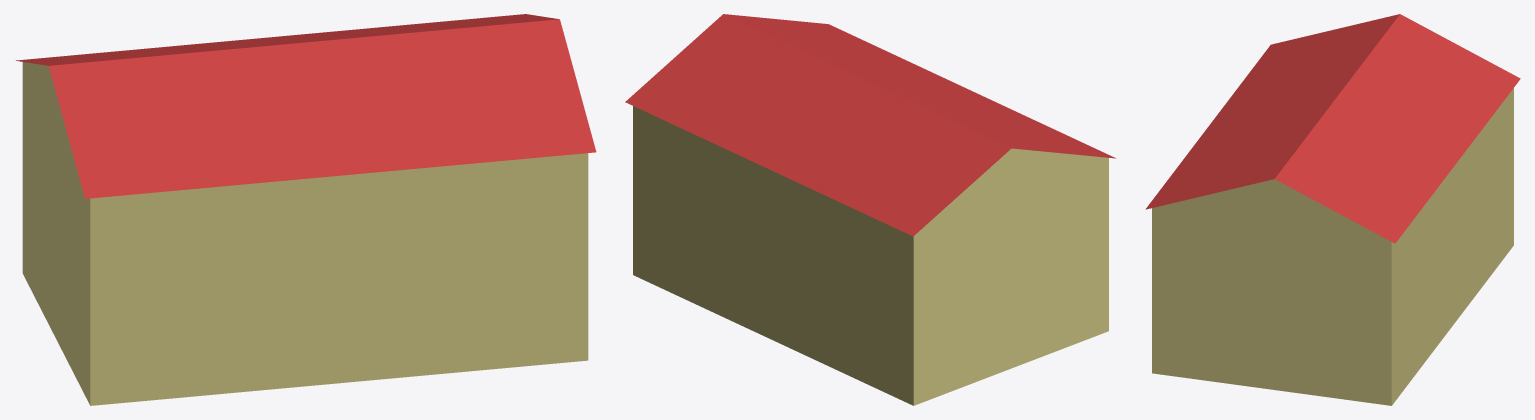
3 renders of one model, left to right at view 1: azimuth 30°, elevation 25°; view 2: azimuth 150°, elevation 25°; view 3: azimuth 270°, elevation 25°, orthographic. The views are drawn at different scales.
Bounding box in the file's own units: 22.02 × 17.56 × 11.
